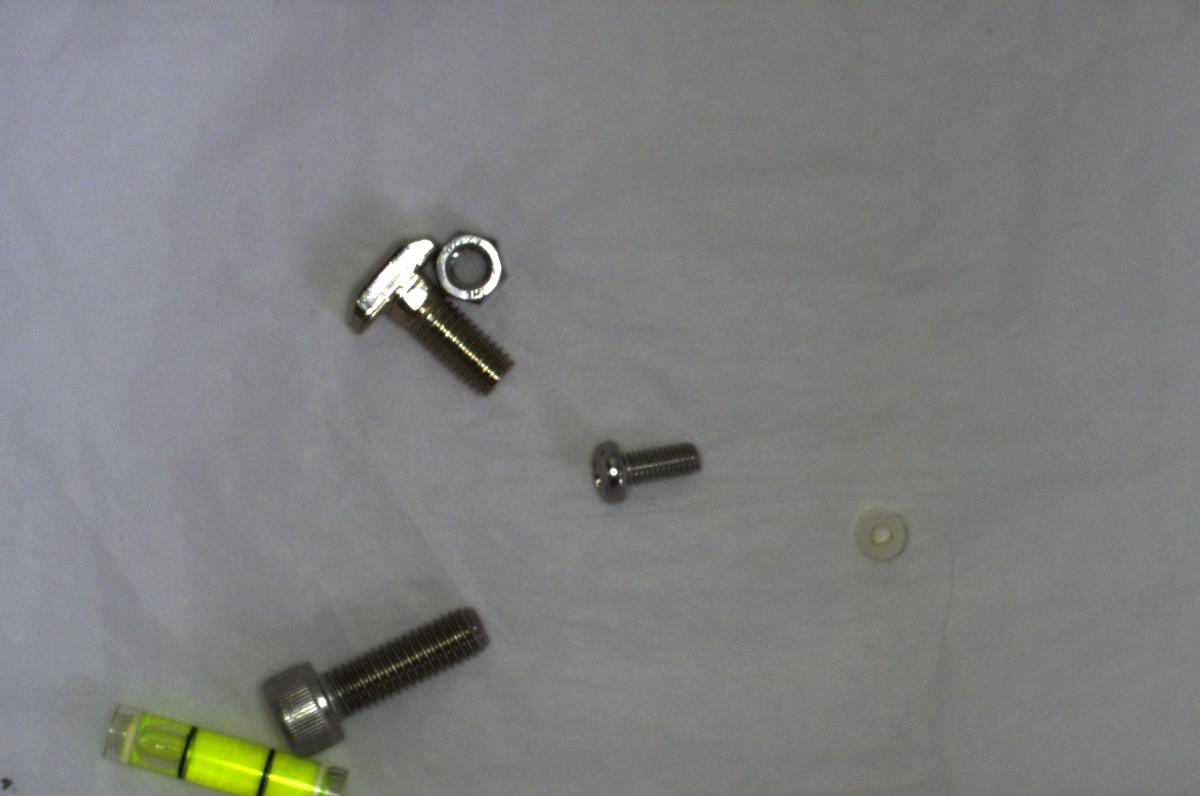Hexagon nut: (431, 221, 512, 302)
Hexagon screw: (254, 601, 506, 752)
Horizontal bubble: (94, 698, 345, 795)
Plastic cushion pillar: (842, 499, 910, 561)
Round head screw: (579, 421, 704, 512)
T-shaped screw: (345, 232, 517, 400)
